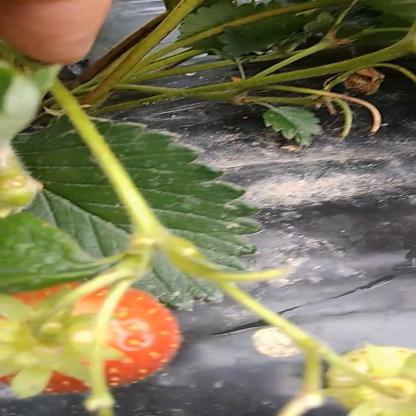ripe: (3, 283, 189, 394), (323, 344, 416, 400)
